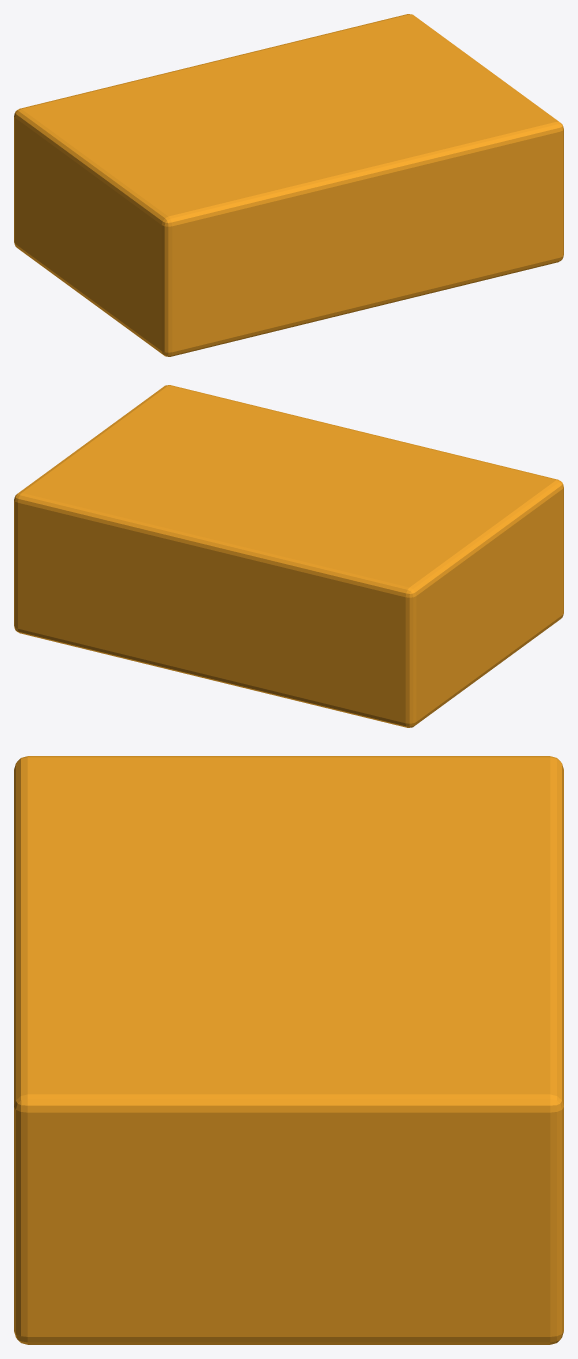
File: wood_block_321.glb
3 views of the same model, one above another, from view 1: azimuth 30°, elevation 25°; view 2: azimuth 150°, elevation 25°; view 3: azimuth 270°, elevation 25° (orthographic). The views are drawn at different scales.
Visible parts, largest first — view 1: Cube; view 2: Cube; view 3: Cube.
Boxes of the visible parts, x1,y1,x2,y2 form: Cube: (14,14,563,356); Cube: (14,385,563,727); Cube: (14,756,563,1344).
Size of the model in its own units: 3 by 1 by 2.
Materials: 1 (1 with a texture image).
